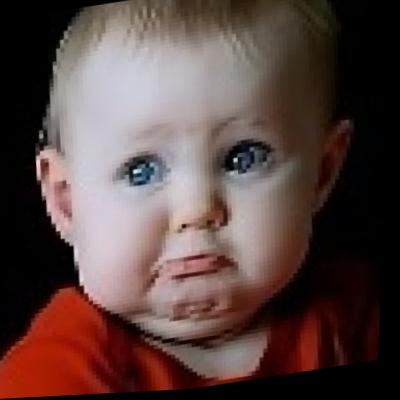sad: (43, 0, 336, 340)
